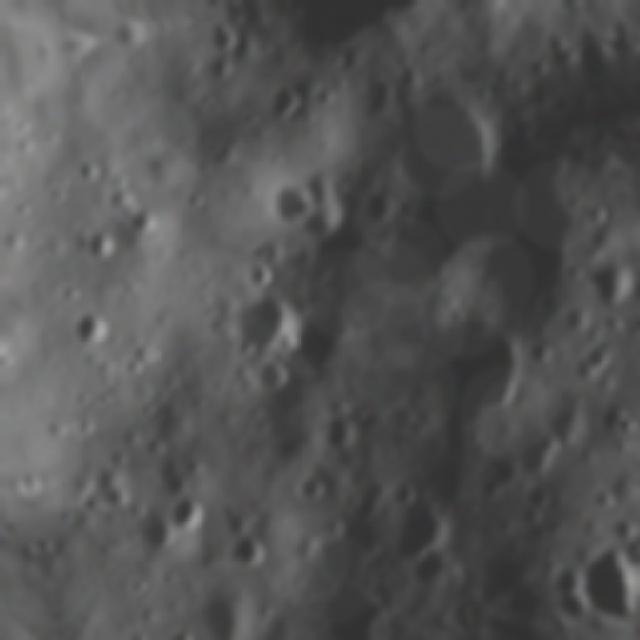crater: (400, 312, 554, 446), (374, 69, 517, 211), (218, 283, 314, 368), (312, 557, 402, 640), (382, 486, 456, 574), (571, 528, 640, 592), (250, 70, 319, 132), (263, 166, 328, 229), (583, 243, 640, 314), (247, 348, 304, 409), (63, 297, 120, 357), (311, 402, 366, 458), (226, 522, 274, 580), (162, 479, 206, 536), (192, 12, 243, 60), (285, 462, 338, 504), (80, 221, 126, 268), (577, 335, 618, 376), (544, 0, 581, 15)
